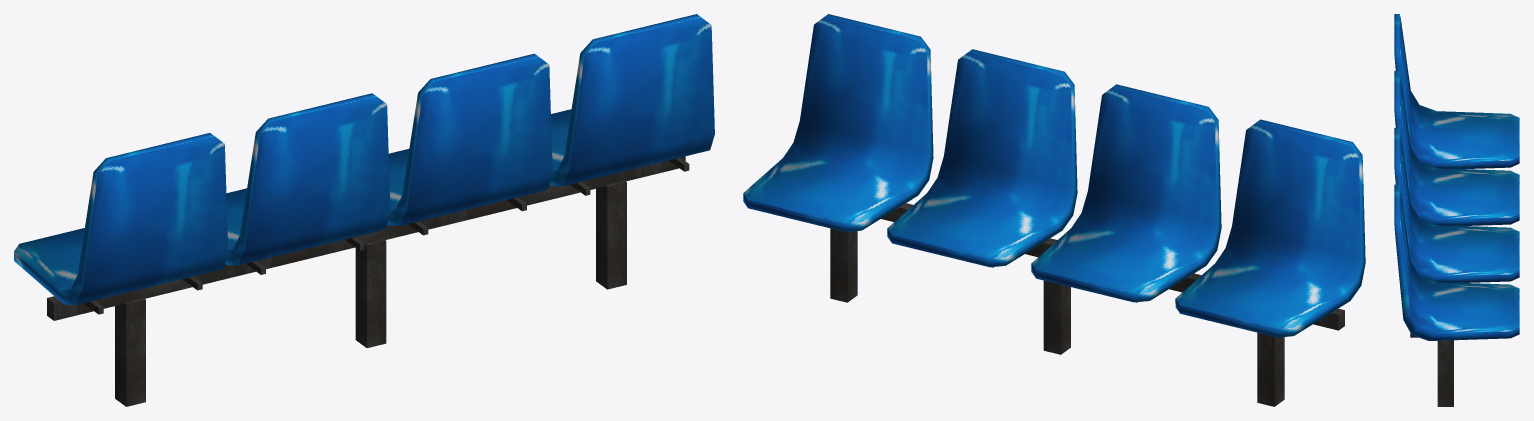
The model's file is metro_bench.glb.
3 views of the same model, side by side, from view 1: azimuth 30°, elevation 25°; view 2: azimuth 150°, elevation 25°; view 3: azimuth 270°, elevation 25° (orthographic). The views are drawn at different scales.
Parts seen in each view (by area): view 1: Chair; view 2: Chair; view 3: Chair.
Boxes of the visible parts, x1=… form: Chair: x1=14, y1=14, x2=714, y2=406; Chair: x1=743, y1=14, x2=1365, y2=406; Chair: x1=1394, y1=14, x2=1519, y2=406.
Bounding box in the file's own units: 2.27 × 0.9537 × 0.5403.
Materials: 1 (1 with a texture image).
